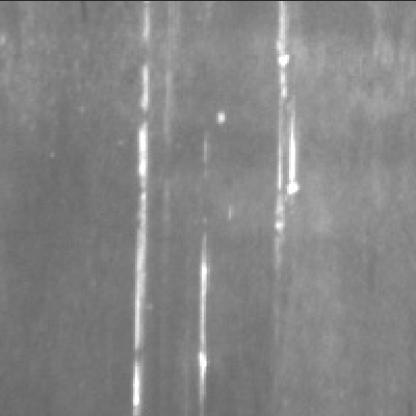scratches: (122, 0, 172, 410), (270, 0, 306, 314), (196, 231, 220, 408)
